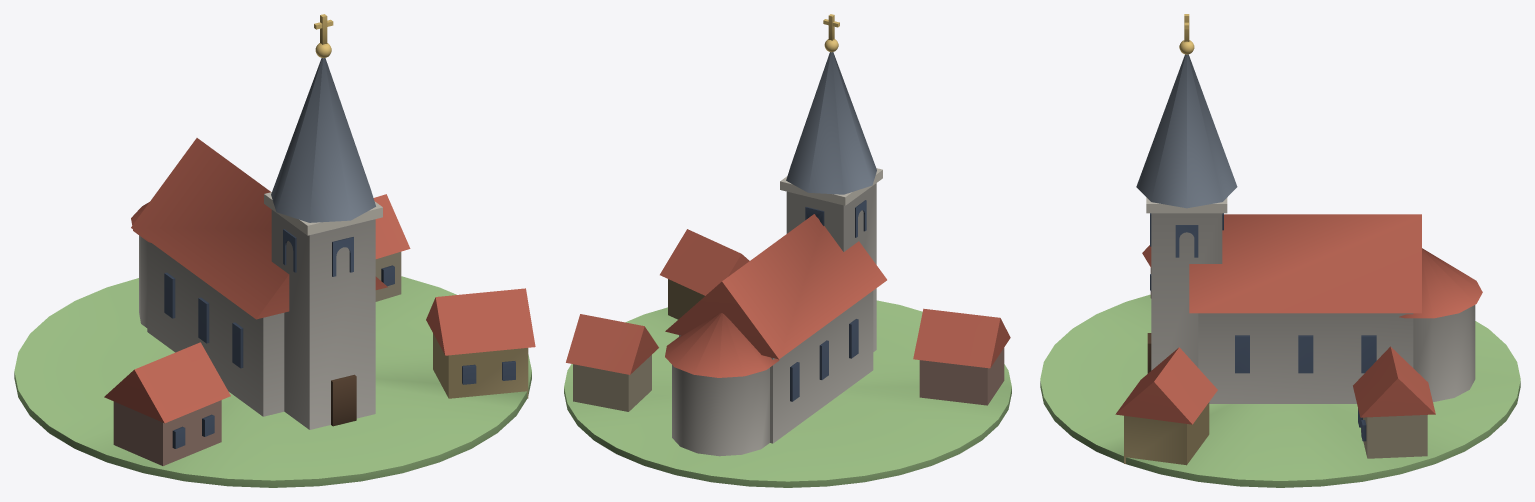
File: zerind.glb
3 views of the same model, side by side, from view 1: azimuth 30°, elevation 25°; view 2: azimuth 150°, elevation 25°; view 3: azimuth 270°, elevation 25° (orthographic). The views are drawn at different scales.
Visible parts, largest first — view 1: zerind_grass, zerind_roofRed, zerind_plaster, zerind_roofSlate, zerind_pink, zerind_window, zerind_ochre, zerind_woodDark, zerind_stoneGray, zerind_cream; view 2: zerind_grass, zerind_roofRed, zerind_plaster, zerind_roofSlate, zerind_pink, zerind_cream, zerind_window, zerind_ochre, zerind_stoneGray; view 3: zerind_grass, zerind_roofRed, zerind_plaster, zerind_roofSlate, zerind_ochre, zerind_cream, zerind_window, zerind_stoneGray.
Boxes of the visible parts, x1,y1,x2,y2 form: zerind_grass: (14, 276, 531, 487); zerind_roofRed: (104, 138, 535, 423); zerind_plaster: (139, 210, 375, 429); zerind_roofSlate: (271, 58, 375, 222); zerind_pink: (113, 400, 221, 465); zerind_window: (164, 229, 515, 448); zerind_ochre: (433, 333, 528, 398); zerind_woodDark: (331, 374, 356, 426); zerind_stoneGray: (264, 192, 382, 235); zerind_cream: (375, 252, 401, 301); zerind_grass: (564, 300, 1011, 487); zerind_roofRed: (566, 214, 1010, 377); zerind_plaster: (672, 183, 876, 456); zerind_roofSlate: (786, 52, 876, 194); zerind_pink: (919, 348, 1004, 405); zerind_cream: (573, 355, 651, 411); zerind_window: (790, 200, 866, 401); zerind_ochre: (668, 279, 704, 319); zerind_stoneGray: (780, 168, 882, 205); zerind_grass: (1040, 294, 1520, 487); zerind_roofRed: (1115, 214, 1482, 424); zerind_plaster: (1151, 213, 1475, 403); zerind_roofSlate: (1136, 54, 1237, 208); zerind_ochre: (1124, 402, 1209, 465); zerind_cream: (1361, 415, 1427, 458); zerind_window: (1150, 213, 1376, 441); zerind_stoneGray: (1146, 197, 1227, 213).
Bounding box in the file's own units: 1.9 × 1.62 × 1.9.
